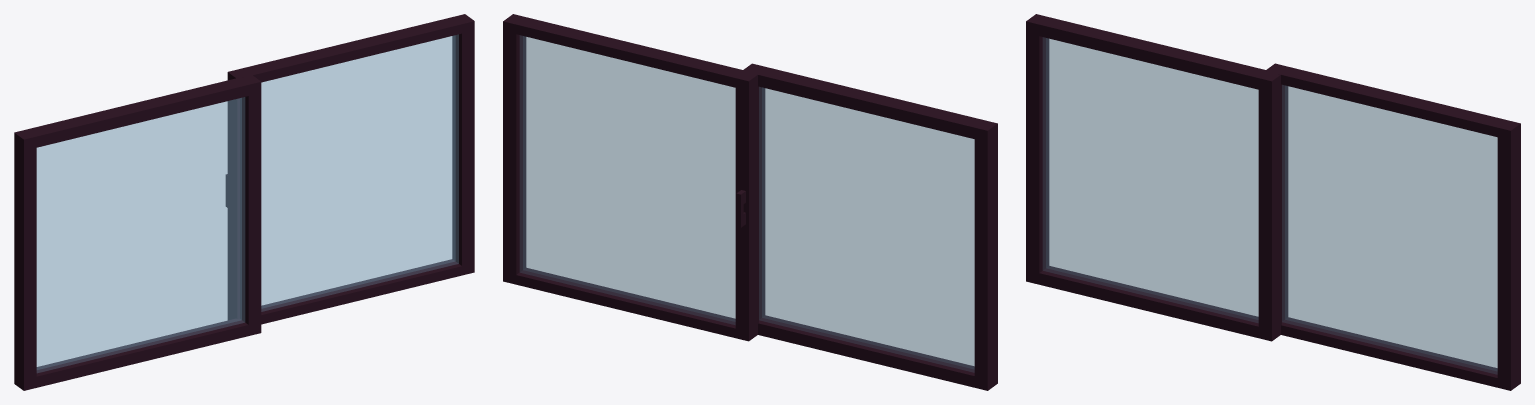
File: DTWindows.fbx
The picture shows the model from 3 angles, left to right: view 1: azimuth 30°, elevation 25°; view 2: azimuth 150°, elevation 25°; view 3: azimuth 330°, elevation 25°; orthographic projection. The views are drawn at different scales.
Parts seen in each view (by area): view 1: DTWindows, DTWindows.001; view 2: DTWindows.001, DTWindows; view 3: DTWindows, DTWindows.001.
Part boxes in pixels (left/top/right/bottom): DTWindows: left=14, top=75, right=261, bottom=390; DTWindows.001: left=227, top=14, right=474, bottom=324; DTWindows.001: left=503, top=14, right=758, bottom=341; DTWindows: left=743, top=63, right=997, bottom=390; DTWindows: left=1026, top=14, right=1281, bottom=341; DTWindows.001: left=1265, top=63, right=1520, bottom=390.
Bounding box in the file's own units: 129 × 67.29 × 11.25.
